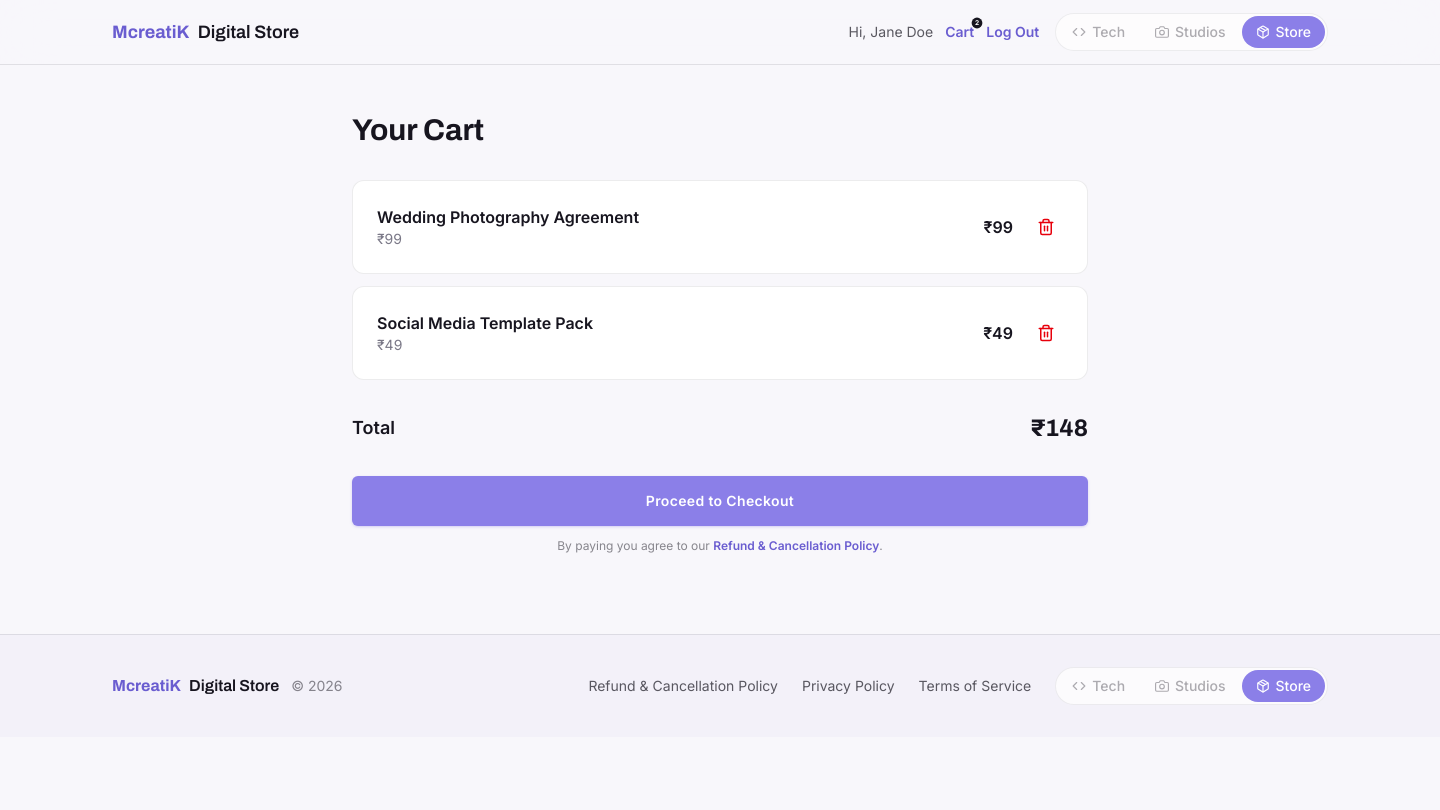
Scenario: StoreCartPage — "Proceed to Checkout" (Task 14 wiring) › shows a plain-language message and re-fetches the cart when checkout fails because a line is no longer purchasable
This screenshot has width=1440, height=810.
Click the button "Proceed to Checkout".
click(720, 501)  # box [352,476,1088,526]
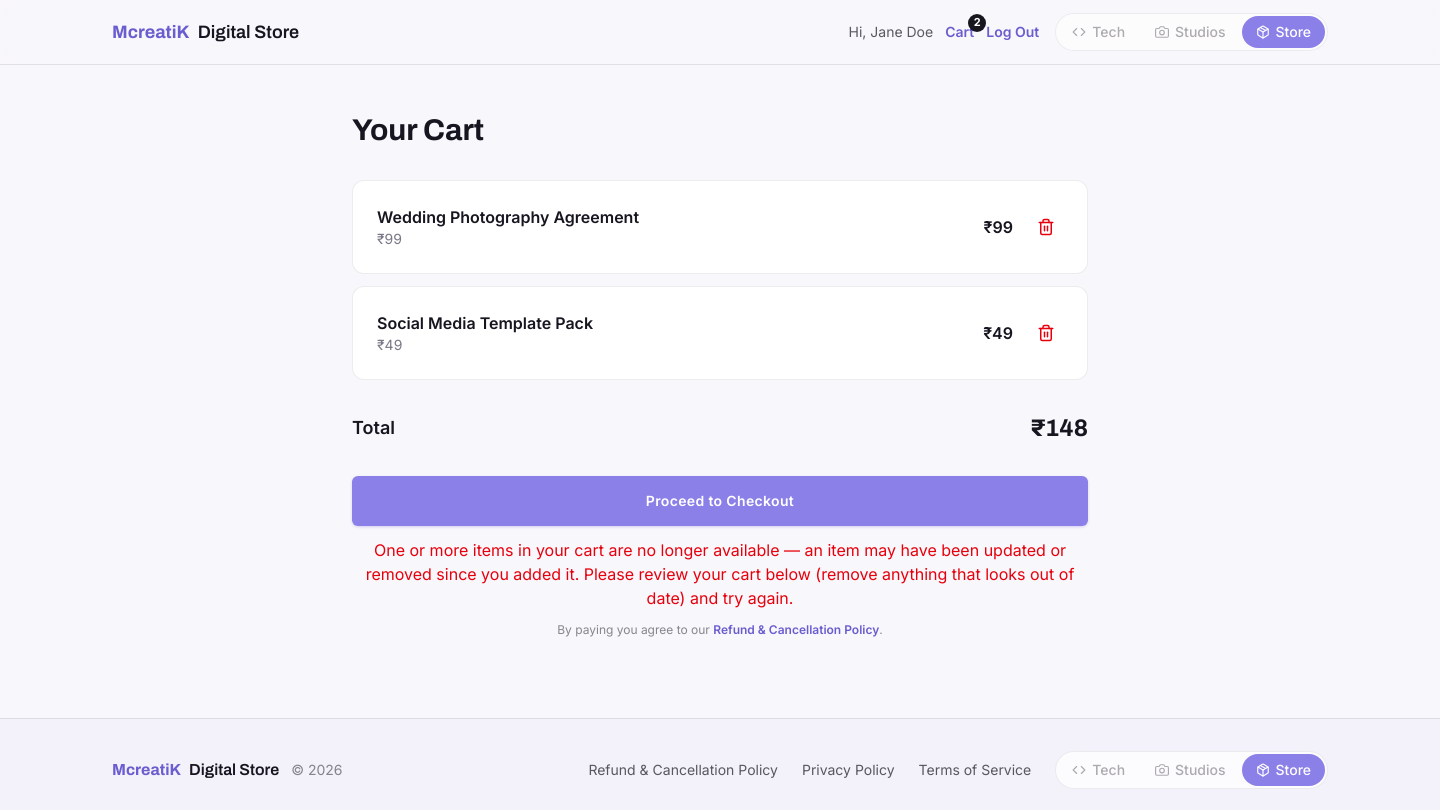
expect the text "no longer available" is shown: met, box [366,540,1074,608]
